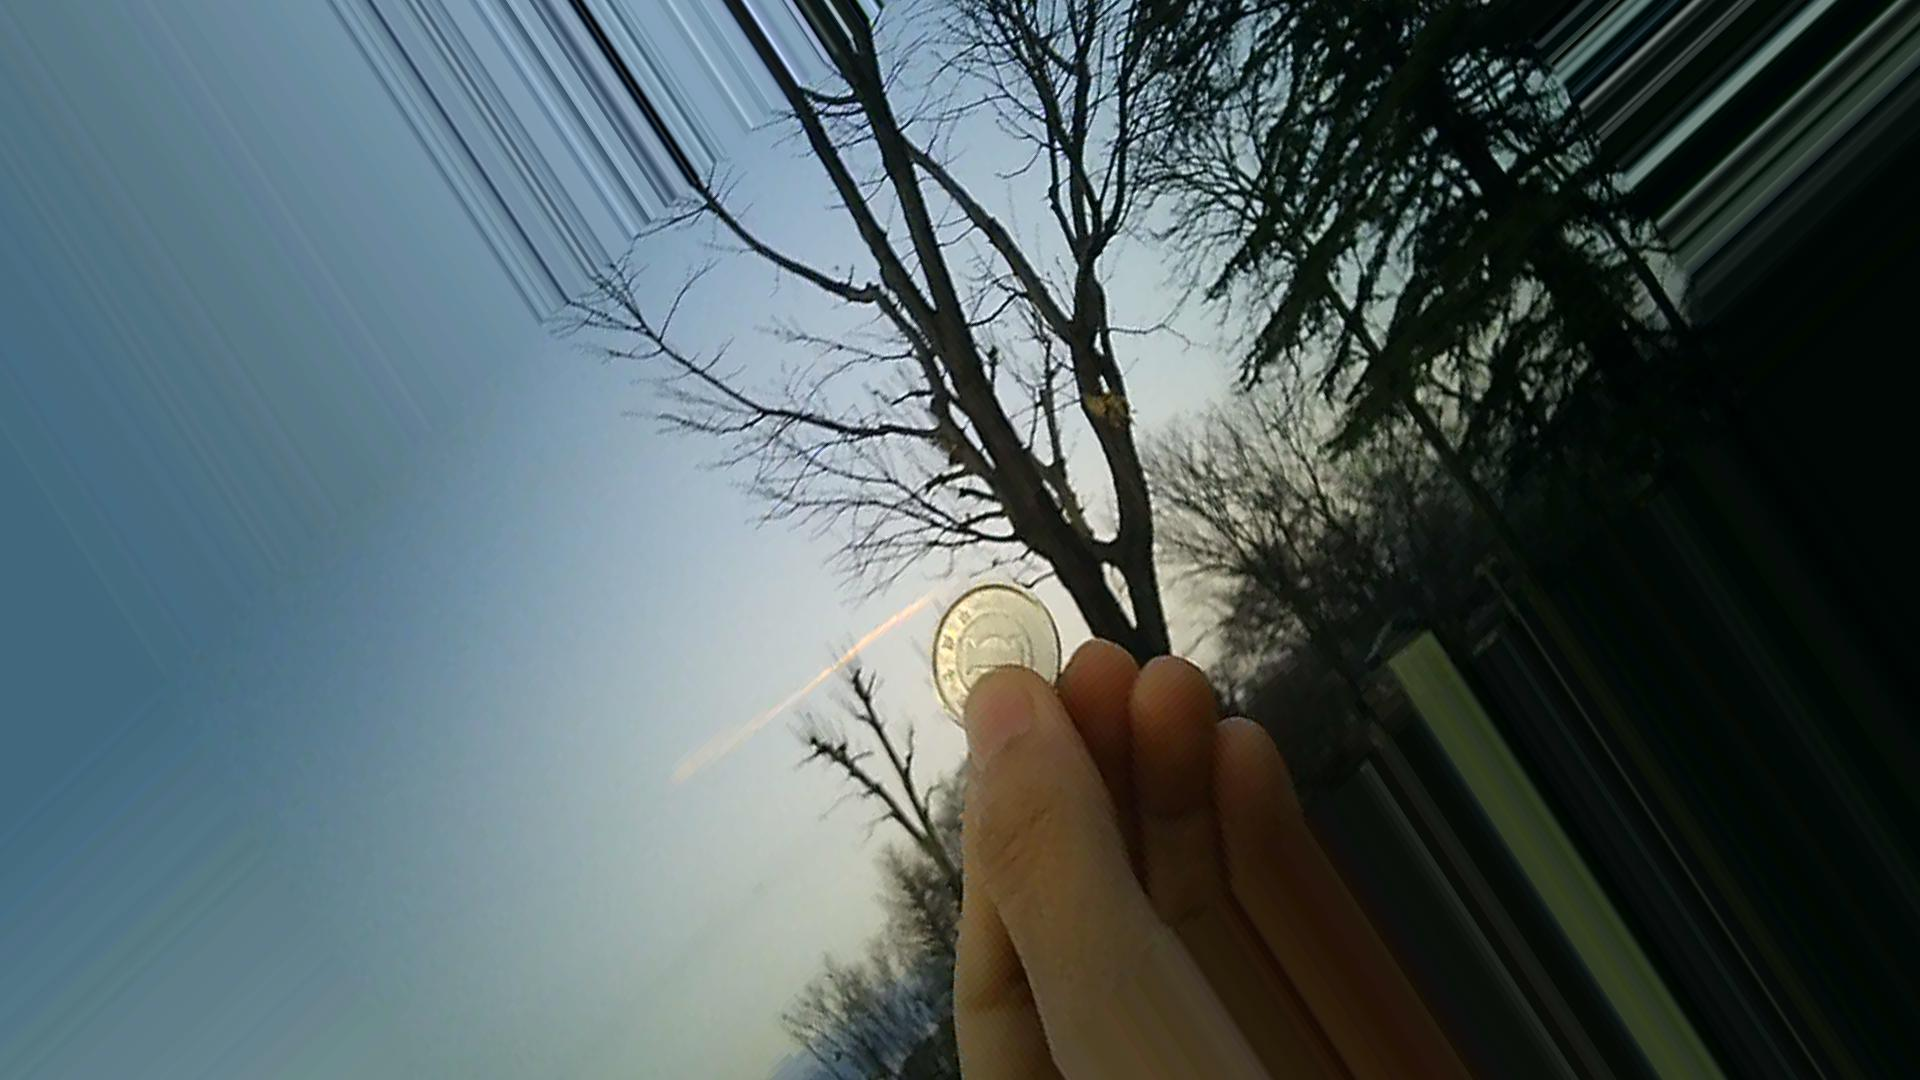1 Yen: (928, 588, 1075, 731)
